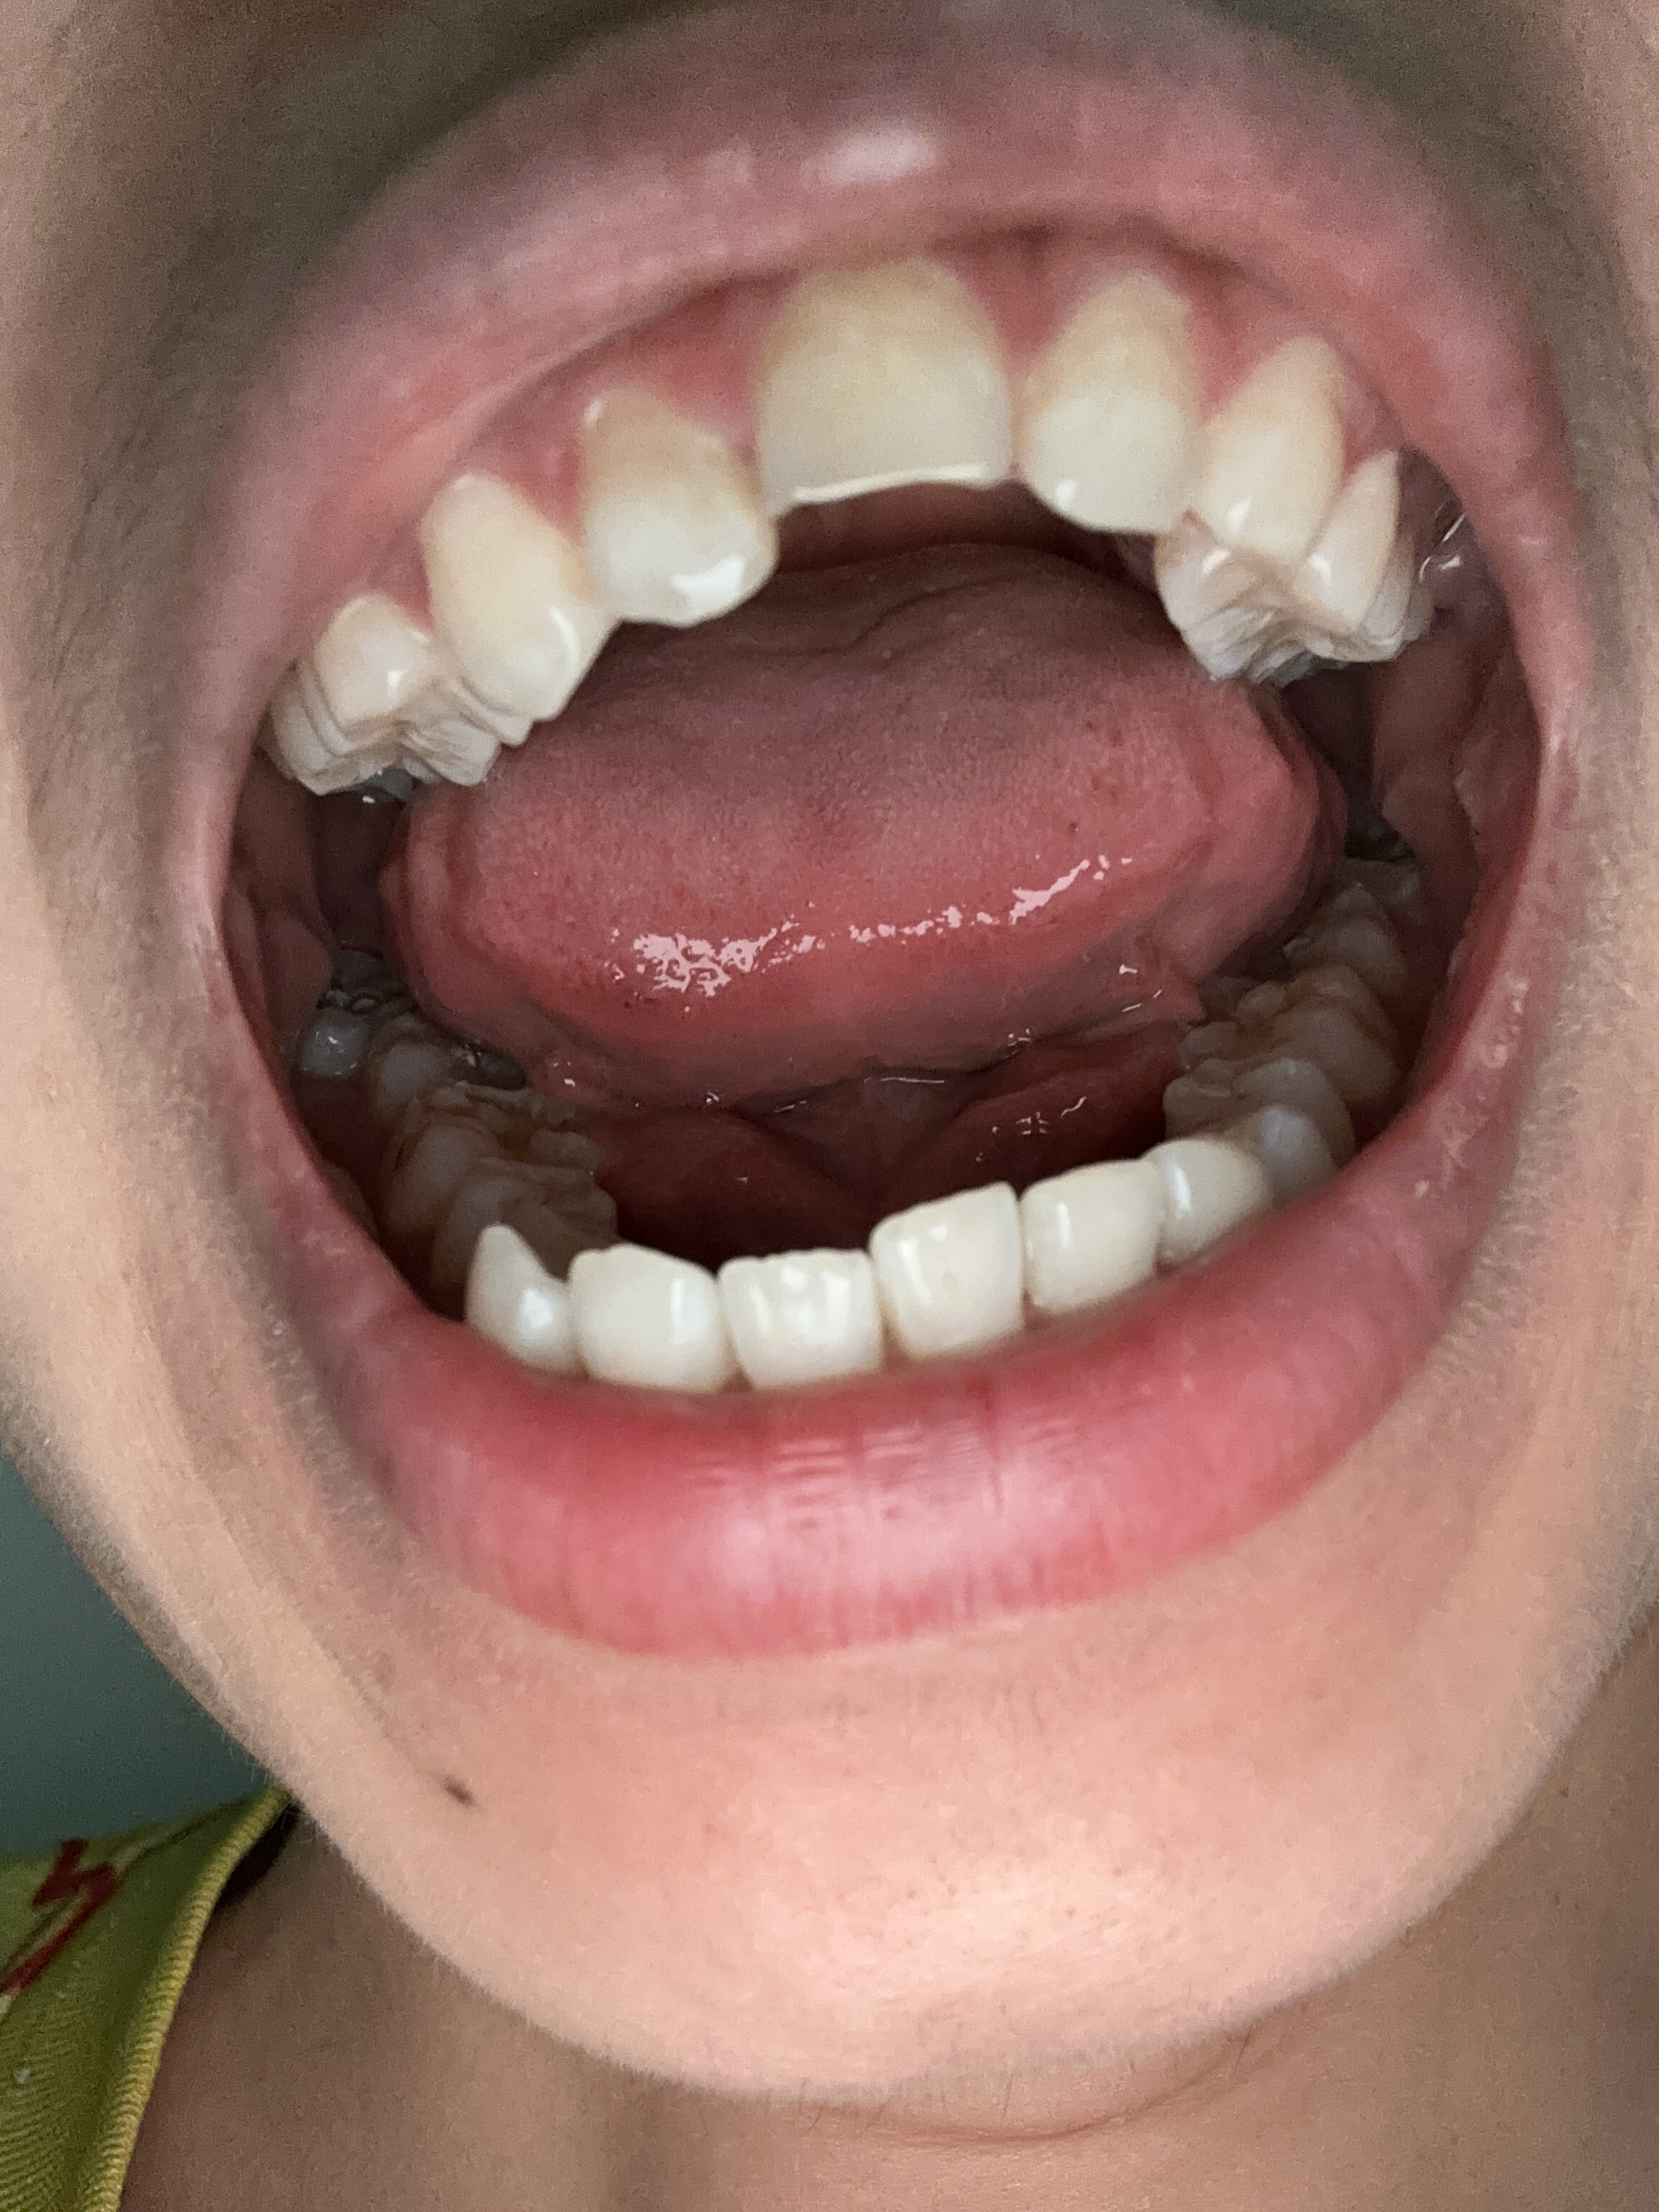teeth: (746, 240, 999, 491), (1014, 258, 1208, 542), (1145, 352, 1338, 617), (579, 388, 767, 627), (1206, 456, 1419, 664), (430, 479, 601, 721), (385, 1099, 596, 1273), (336, 594, 521, 766), (1192, 956, 1387, 1106), (464, 1214, 640, 1371), (272, 679, 472, 803), (878, 1190, 1026, 1355), (1166, 1071, 1363, 1184), (422, 1169, 598, 1294), (721, 1247, 875, 1386), (591, 1259, 741, 1400), (1026, 1160, 1166, 1301), (1288, 853, 1413, 970), (373, 1019, 509, 1118), (1161, 1150, 1276, 1259), (1337, 575, 1436, 662)
